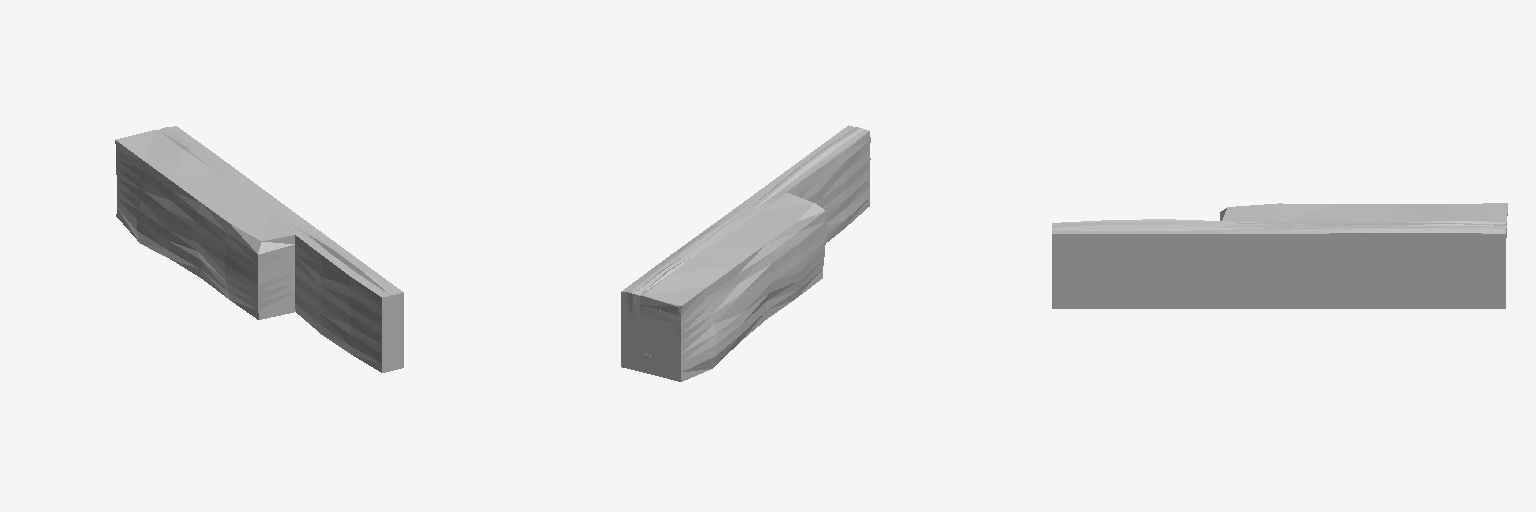
The model's file is rock1.obj.
The picture shows the model from 3 angles: view 1: azimuth 30°, elevation 25°; view 2: azimuth 150°, elevation 25°; view 3: azimuth 270°, elevation 25°; orthographic projection.
Visible parts, largest first — view 1: 立方体.105; view 2: 立方体.105; view 3: 立方体.105.
Part boxes in pixels (left/top/right/bottom): 立方体.105: left=115, top=126, right=403, bottom=372; 立方体.105: left=621, top=125, right=870, bottom=381; 立方体.105: left=1052, top=203, right=1507, bottom=308.
Size of the model in its own units: 114 by 138 by 667.